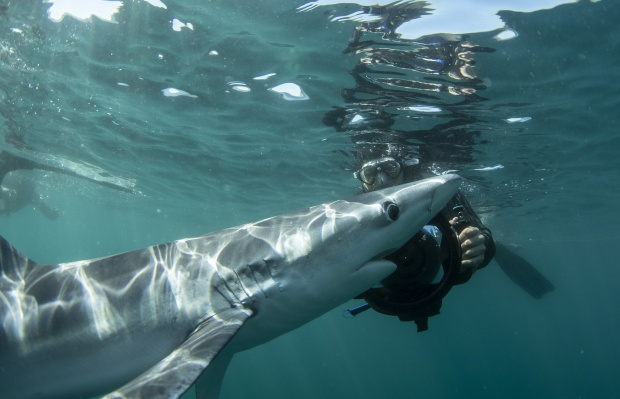Azul: (1, 157, 482, 396)
